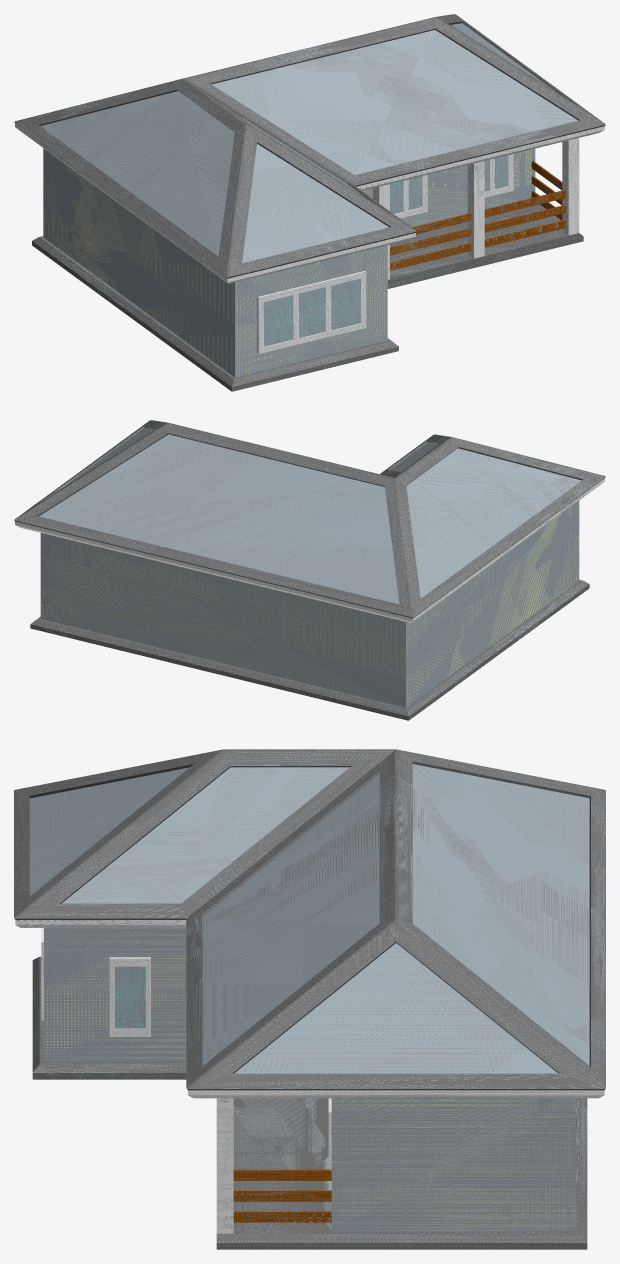
The model's file is House.fbx.
3 renders of one model, top to bottom at view 1: azimuth 30°, elevation 25°; view 2: azimuth 150°, elevation 25°; view 3: azimuth 270°, elevation 25°, orthographic. The views are drawn at different scales.
Visible parts, largest first — view 1: Roof, Walls, Window, Soffit, Pillar2, Pillar, Board1, Board2, Window3, Board, Window2; view 2: Roof, Walls, Soffit; view 3: Roof, Walls, Soffit, Window1, Pillar2, Short_Board, Short_Board1, Short_Board2.
Boxes of the visible parts, x1,y1,x2,y2 form: Roof: [14, 14, 605, 278]; Walls: [32, 148, 583, 391]; Window: [257, 271, 366, 353]; Soffit: [15, 123, 604, 283]; Pillar2: [562, 138, 579, 235]; Pillar: [467, 161, 484, 258]; Board1: [390, 205, 565, 255]; Board2: [390, 220, 565, 270]; Window3: [390, 175, 427, 218]; Board: [412, 190, 565, 234]; Window2: [484, 154, 513, 197]; Roof: [14, 420, 605, 618]; Walls: [30, 500, 589, 720]; Soffit: [15, 478, 604, 622]; Roof: [14, 749, 605, 1090]; Walls: [32, 928, 587, 1249]; Soffit: [15, 920, 604, 1098]; Window1: [109, 957, 150, 1036]; Pillar2: [216, 1098, 233, 1233]; Short_Board: [233, 1211, 331, 1222]; Short_Board1: [233, 1190, 331, 1201]; Short_Board2: [233, 1169, 331, 1180].
Bounding box in the file's own units: 1231 × 524 × 1030.
